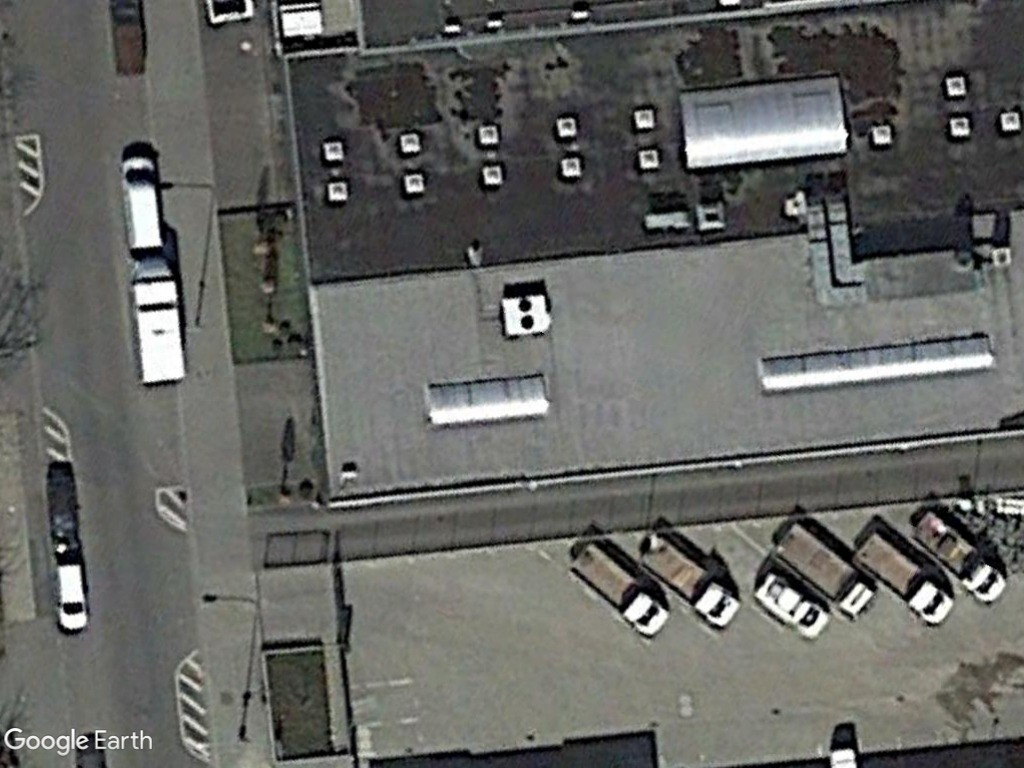other: (766, 519, 878, 620), (636, 531, 744, 628), (908, 504, 1006, 606), (853, 529, 956, 625), (570, 542, 669, 641), (751, 572, 831, 640)
truck: (127, 257, 186, 383)
van: (117, 154, 166, 256), (51, 556, 89, 636)
